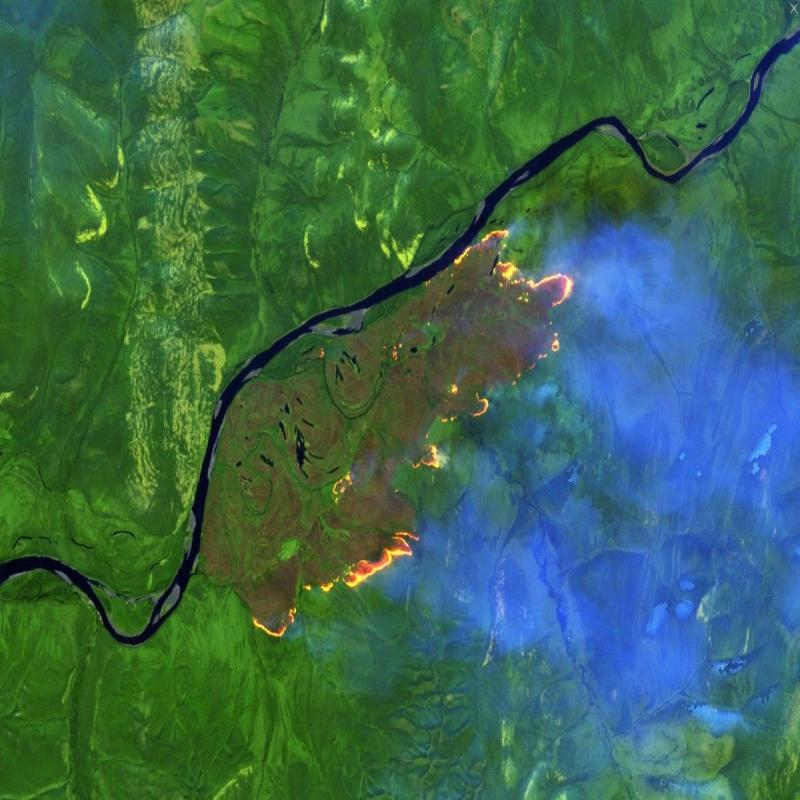fire: (260, 429, 444, 658), (446, 217, 580, 443)
